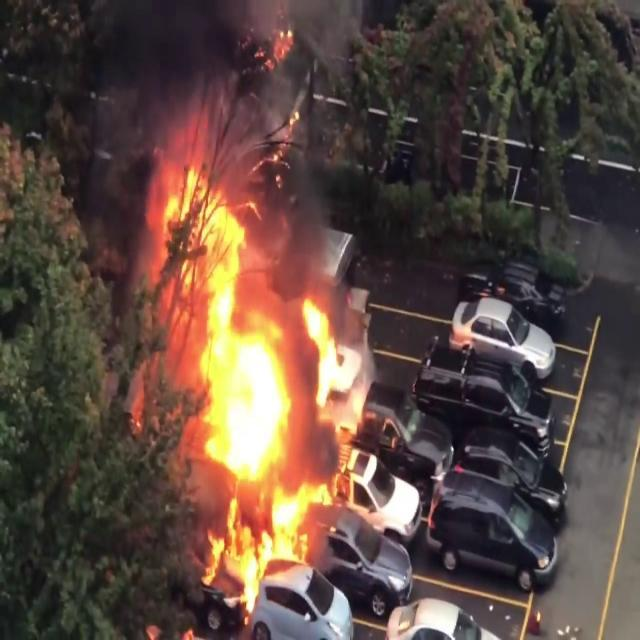Fire: (137, 138, 386, 602)
